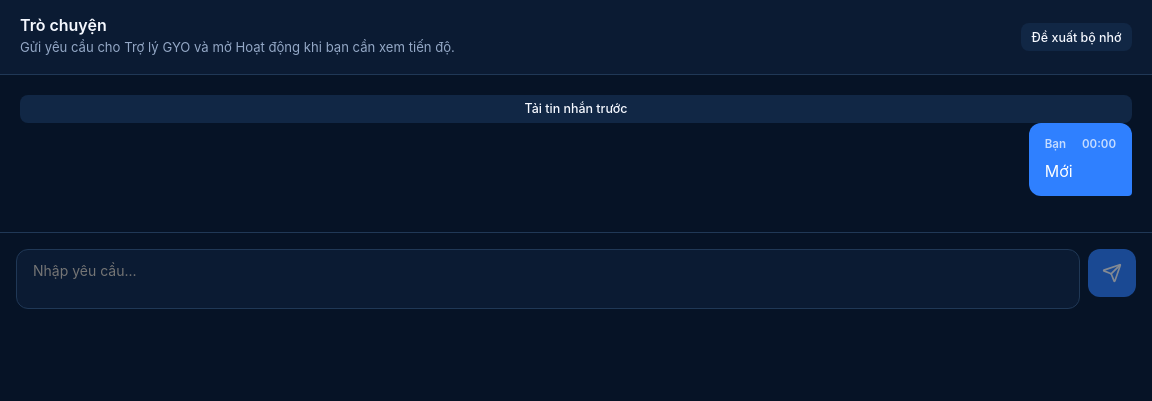
Test: ChatPanel › tải và chèn trang tin nhắn cũ hơn theo cursor
Click the button "Tải tin nhắn trước".
click(576, 109)  # box [20,95,1132,123]
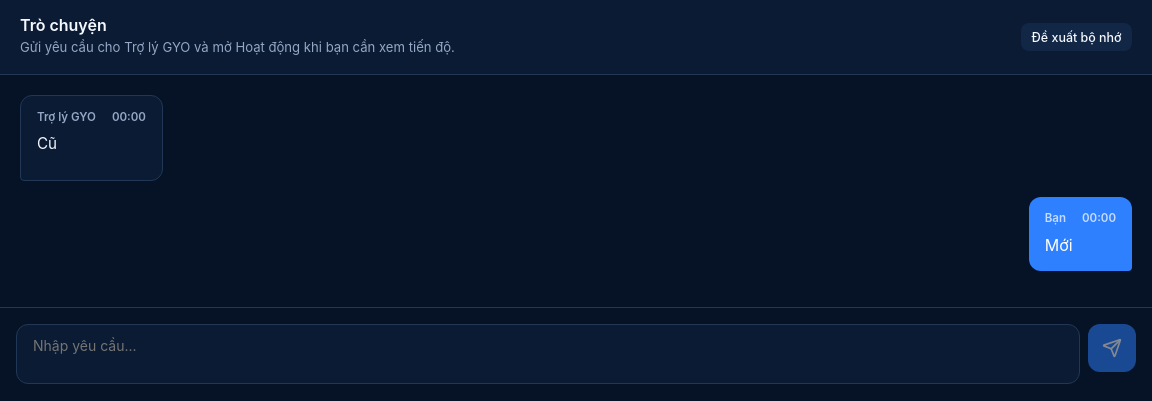
Now the text "Cũ" is shown, box [37,134,57,153]
Now the button "Tải tin nhắn trước" is gone
